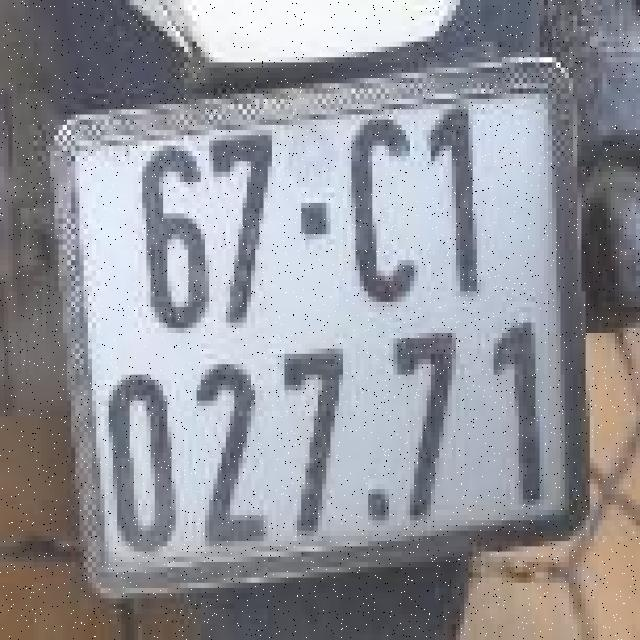0: (98, 356, 182, 560)
1: (481, 291, 556, 510), (427, 96, 489, 310)
2: (184, 333, 272, 552)
6: (140, 138, 216, 341)
7: (205, 130, 284, 328), (381, 328, 456, 531), (278, 344, 354, 541)
C: (347, 109, 423, 312)
